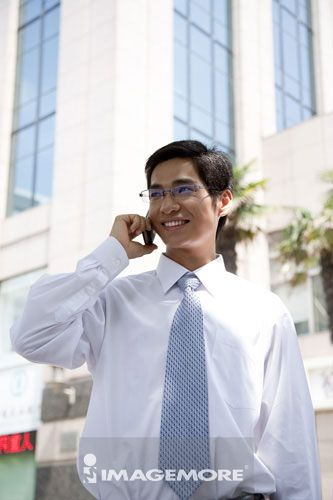talk: (110, 174, 207, 269)
